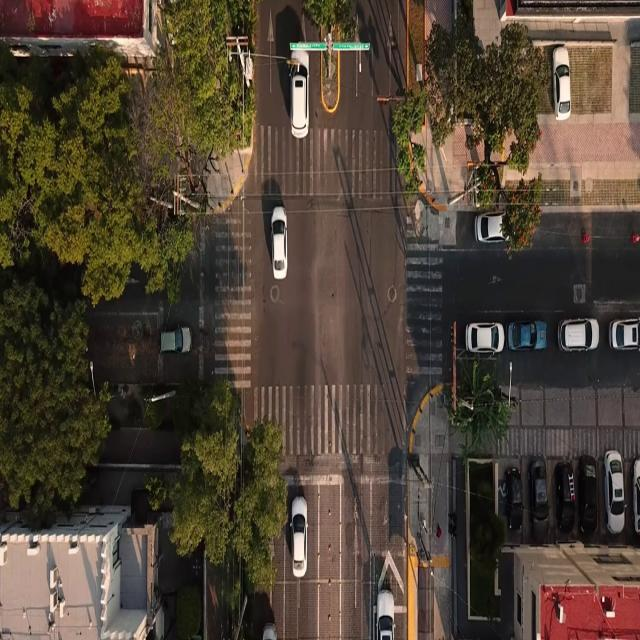car: (604, 450, 624, 534), (529, 458, 548, 542), (291, 50, 309, 138), (579, 456, 597, 534), (555, 462, 574, 533), (558, 319, 599, 351), (291, 496, 307, 577), (553, 47, 570, 120), (507, 321, 547, 350), (271, 207, 287, 279), (466, 323, 504, 353), (505, 468, 523, 530), (609, 318, 640, 350), (476, 213, 505, 242), (377, 590, 394, 639), (160, 328, 191, 352), (633, 459, 639, 534), (263, 624, 276, 639)
